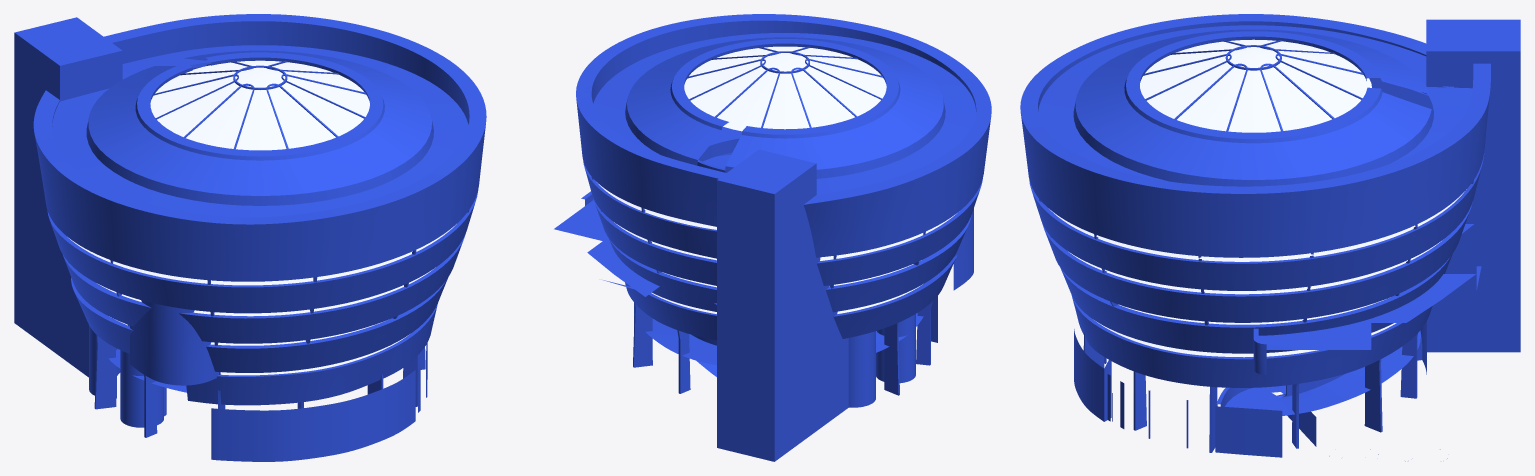
File: drc.glb
The picture shows the model from 3 angles, left to right: view 1: azimuth 30°, elevation 25°; view 2: azimuth 150°, elevation 25°; view 3: azimuth 270°, elevation 25°; orthographic projection. The views are drawn at different scales.
Visible parts, largest first — view 1: camera+lights-Mat_3, camera+lights-Mat_2, camera+lights-Mat1, camera+lights-Mat_1; view 2: camera+lights-Mat_3, camera+lights-Mat_2, camera+lights-Mat1; view 3: camera+lights-Mat_3, camera+lights-Mat_2, camera+lights-Mat1, camera+lights-Mat_1.
Part boxes in pixels (x1=…): camera+lights-Mat_3: x1=33, y1=14, x2=486, y2=405; camera+lights-Mat_2: x1=14, y1=17, x2=469, y2=437; camera+lights-Mat1: x1=68, y1=60, x2=456, y2=375; camera+lights-Mat_1: x1=211, y1=343, x2=427, y2=461; camera+lights-Mat_3: x1=576, y1=14, x2=991, y2=376; camera+lights-Mat_2: x1=554, y1=46, x2=973, y2=461; camera+lights-Mat1: x1=597, y1=46, x2=956, y2=313; camera+lights-Mat_3: x1=1020, y1=14, x2=1490, y2=446; camera+lights-Mat_2: x1=1039, y1=19, x2=1520, y2=461; camera+lights-Mat1: x1=1049, y1=39, x2=1466, y2=357; camera+lights-Mat_1: x1=1074, y1=321, x2=1426, y2=457.
Size of what is drawn, in the model's own units: 21.4 by 16.43 by 22.79.
